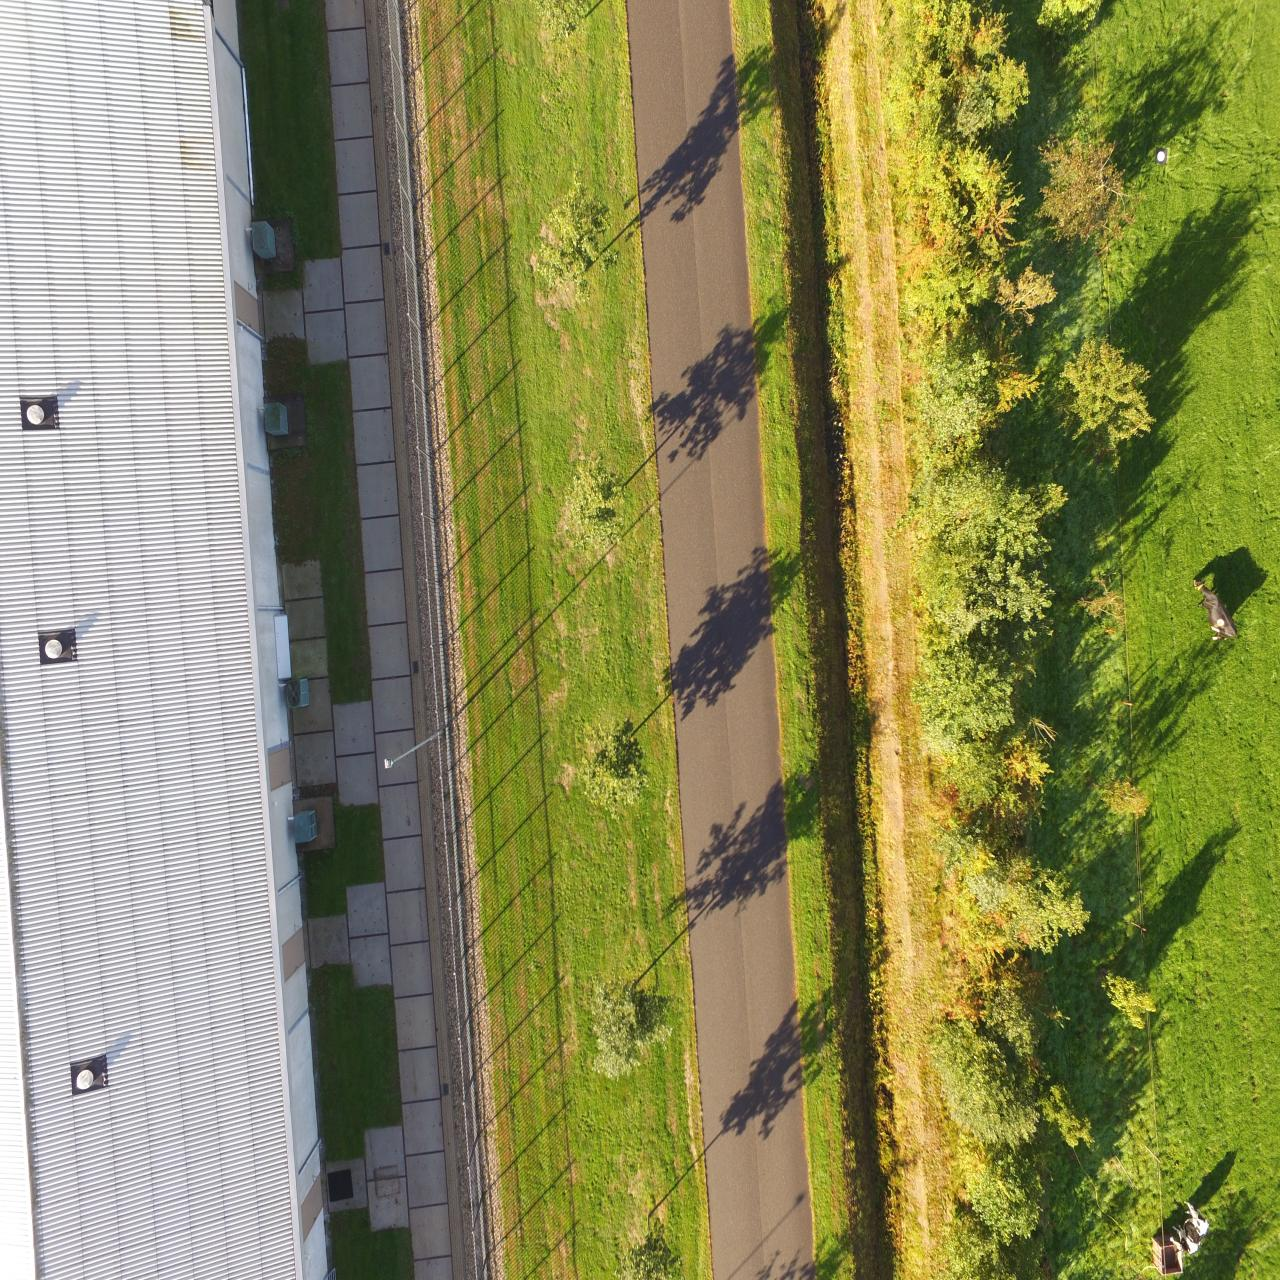cow: (1191, 578, 1241, 642), (1170, 1199, 1210, 1257)
